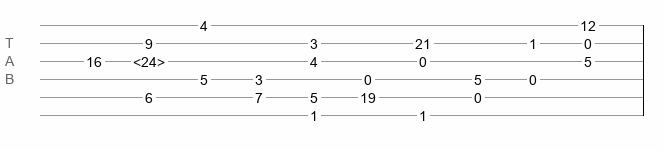0: (364, 72, 372, 82), (419, 54, 427, 64), (474, 90, 482, 100), (529, 72, 537, 82), (584, 36, 592, 46)
1: (310, 108, 318, 118), (419, 108, 427, 118), (529, 36, 537, 46)
12: (580, 18, 596, 28)
16: (86, 54, 102, 64)
19: (360, 90, 376, 100)
21: (415, 36, 431, 46)
3: (255, 72, 263, 82), (310, 36, 318, 46)
4: (200, 18, 208, 28), (310, 54, 318, 64)
5: (200, 72, 208, 82), (310, 90, 318, 100), (474, 72, 482, 82), (584, 54, 592, 64)
6: (145, 90, 153, 100)
7: (255, 90, 263, 100)
9: (145, 36, 153, 46)
harmonic: (133, 54, 165, 64)
